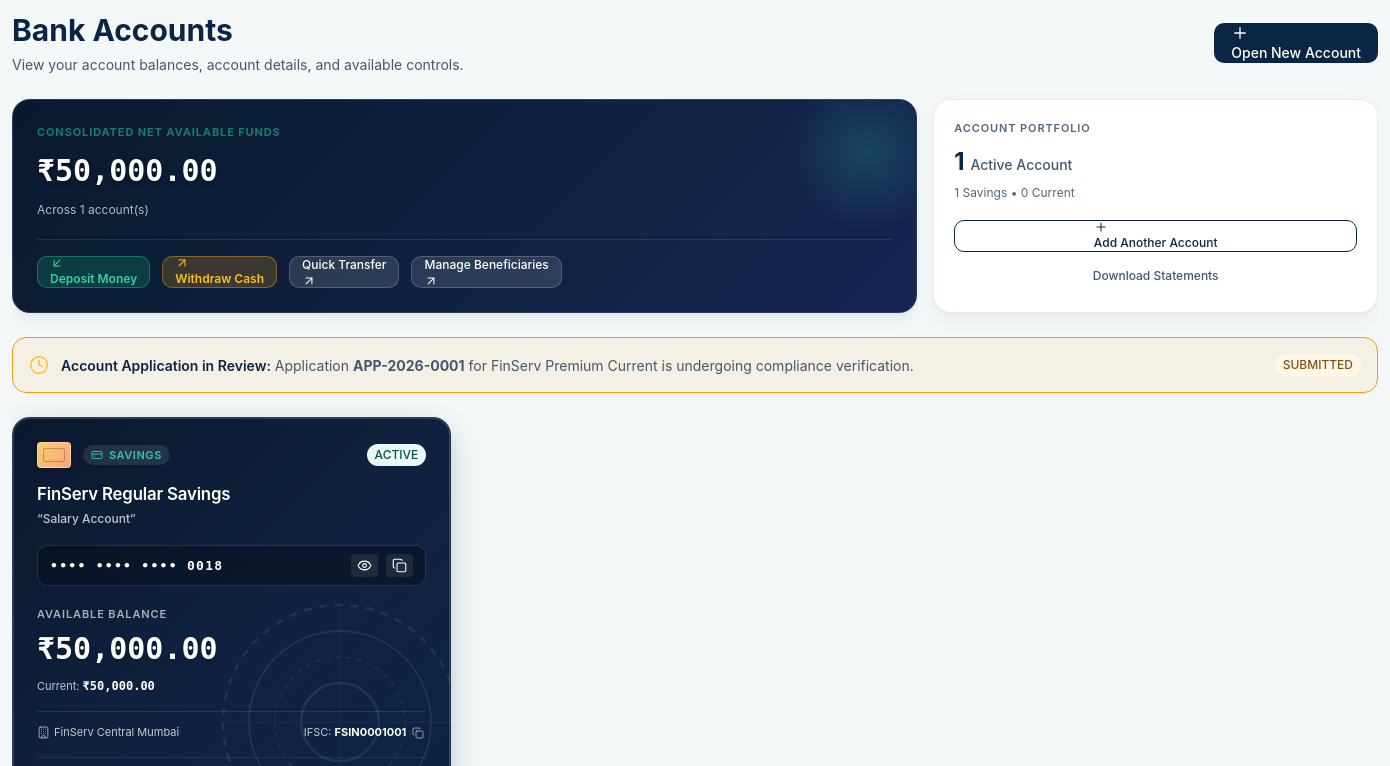
it: AccountsPage Component › toggles masked and unmasked account number on reveal click
Expected: the text "•••• •••• •••• 0018" is shown, 50,558 -> 223,573
What coordinates should you click on to do the following:
click the button named "reveal full account number"
I would click on:
 (365, 566)
Its box is 351,554 -> 378,577.
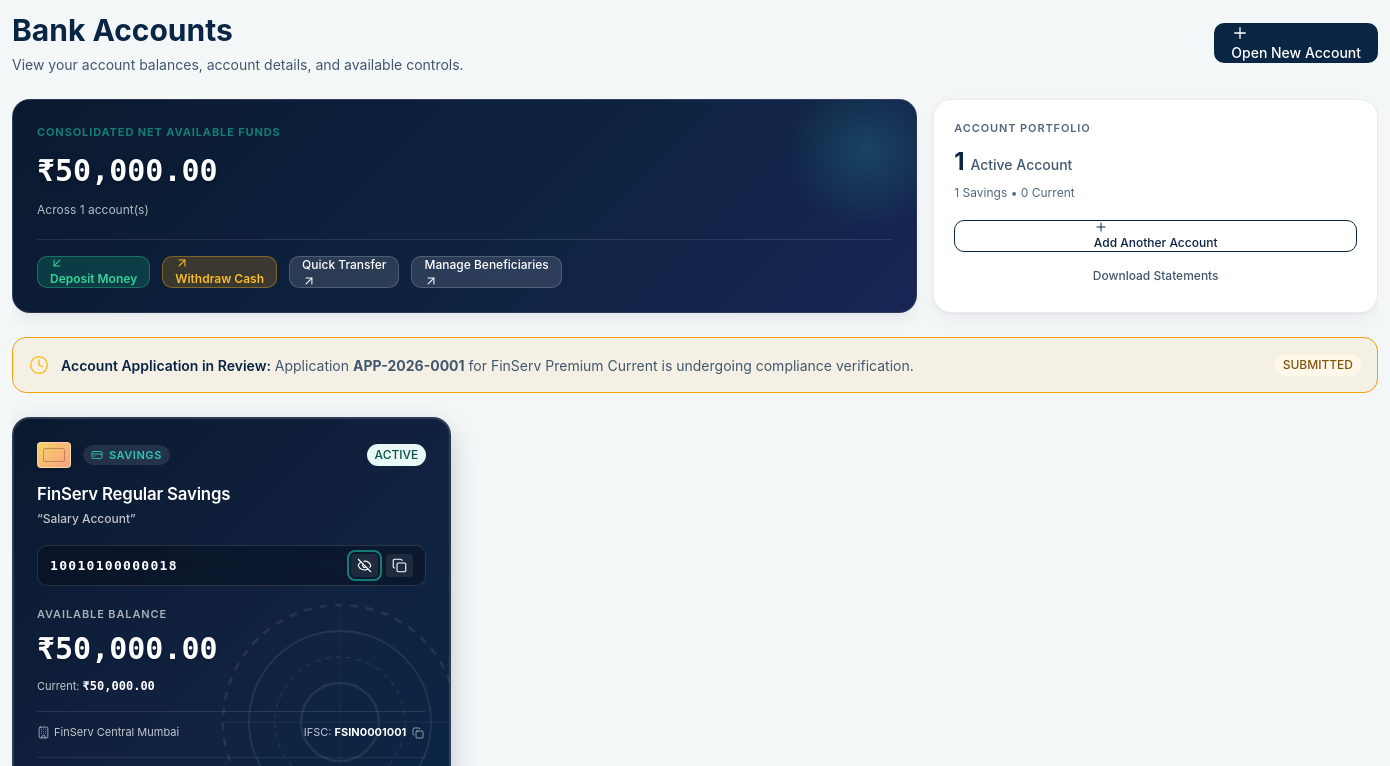
Expected: the text "10010100000018" is shown, 50,558 -> 178,573
What coordinates should you click on to do the following:
click the button named "hide account number"
I would click on:
 (365, 566)
Its box is 351,554 -> 378,577.
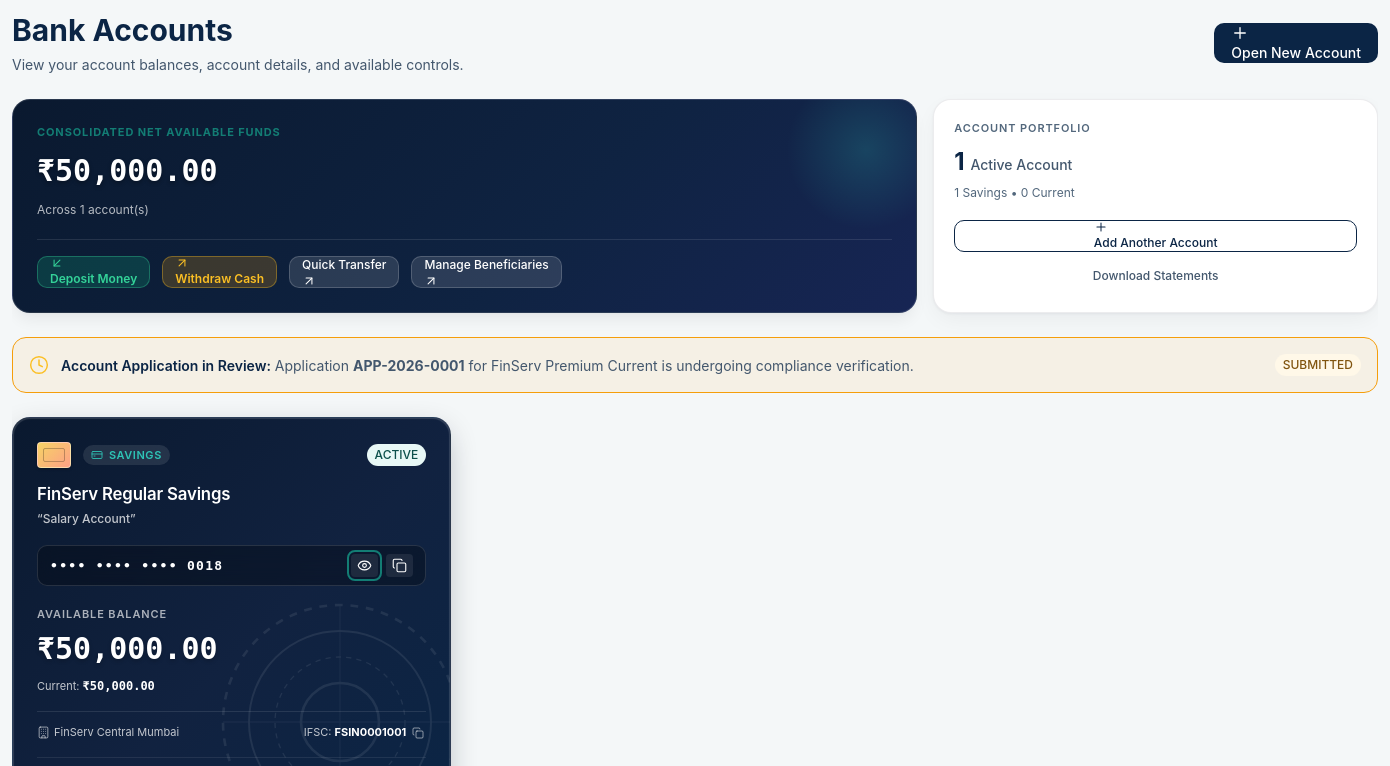
Expected: the text "•••• •••• •••• 0018" is shown, 50,558 -> 223,573
